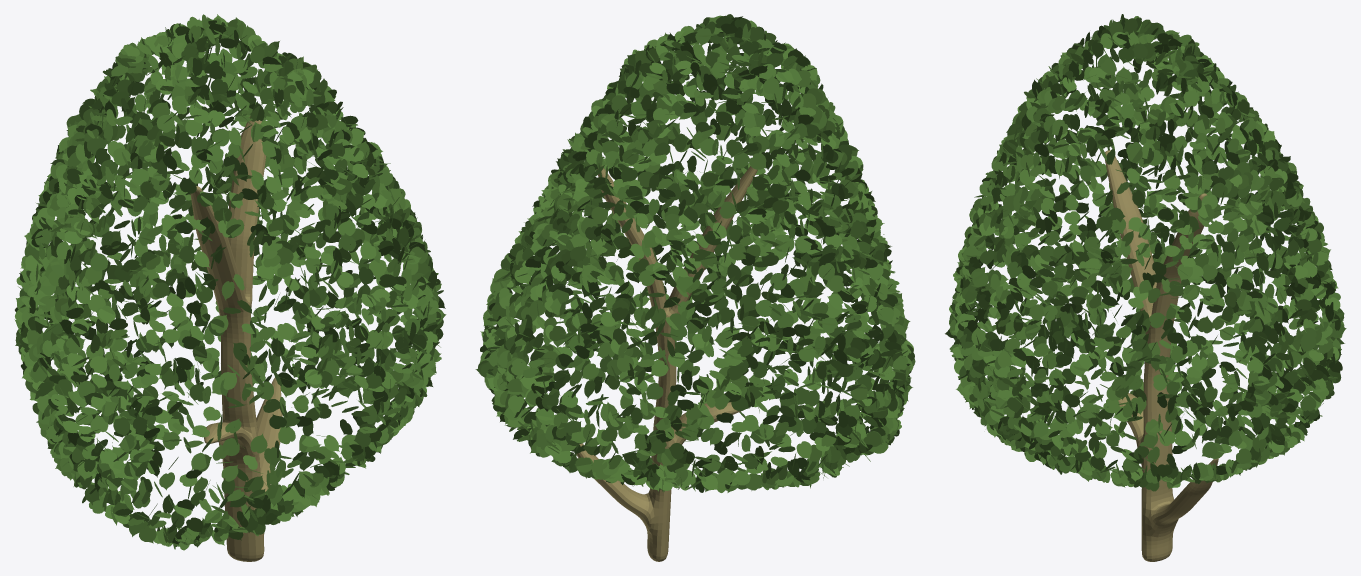
File: tillia.fbx
3 renders of one model, left to right at view 1: azimuth 30°, elevation 25°; view 2: azimuth 150°, elevation 25°; view 3: azimuth 270°, elevation 25°, orthographic. The views are drawn at different scales.
Parts seen in each view (by area): view 1: Linden; view 2: Linden; view 3: Linden.
Boxes of the visible parts, x1,y1,x2,y2 form: Linden: [14, 14, 446, 561]; Linden: [475, 14, 915, 561]; Linden: [945, 14, 1346, 561].
Size of the model in its own units: 415 by 584 by 412.
